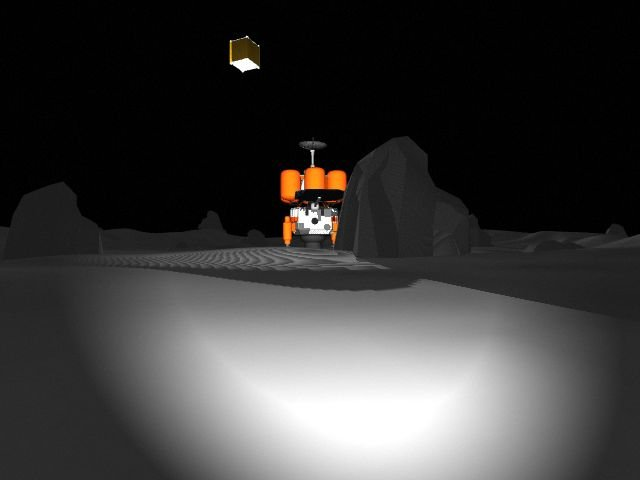cubesat: (222, 32, 270, 81)
